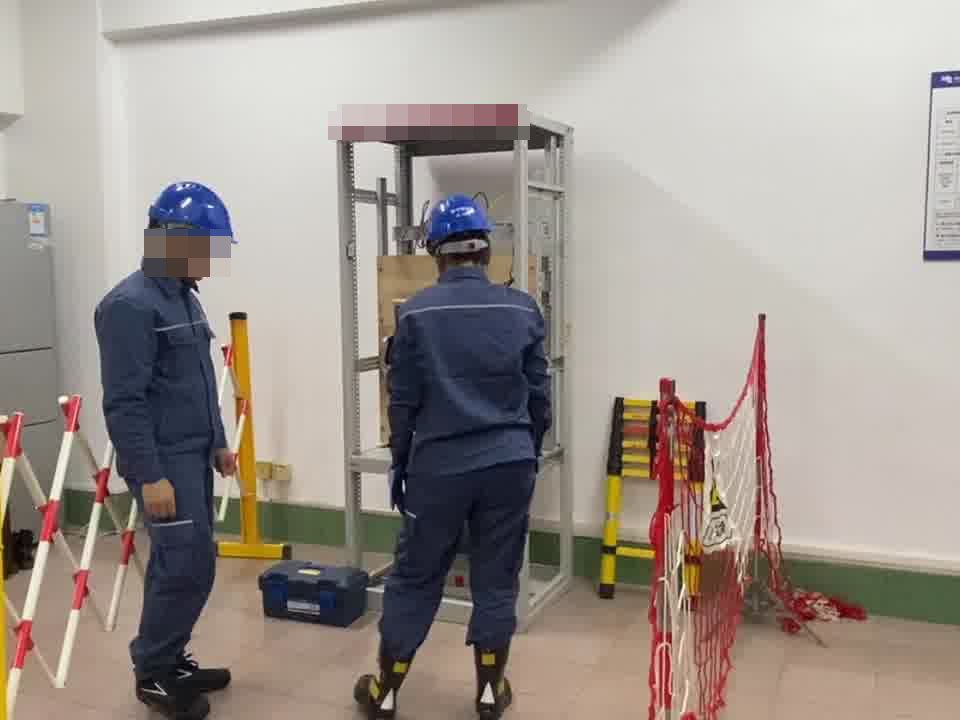downsuit: (380, 474, 534, 654), (129, 464, 219, 672)
halt: (145, 180, 237, 279), (423, 193, 498, 269)
hand: (142, 484, 176, 522), (213, 442, 239, 479)
inear: (157, 225, 198, 265)
person: (365, 191, 555, 707), (87, 177, 250, 714)
shoe: (354, 657, 526, 718)
upsuit: (387, 271, 552, 462), (96, 267, 230, 458)
